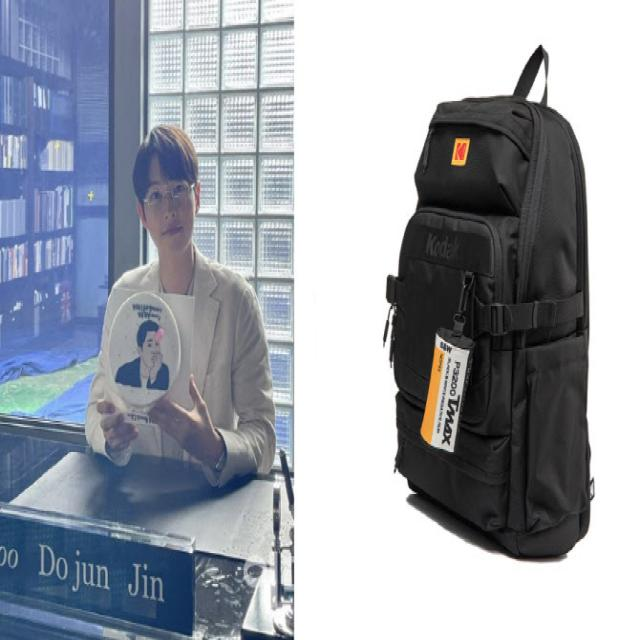backpack: (366, 56, 608, 582)
